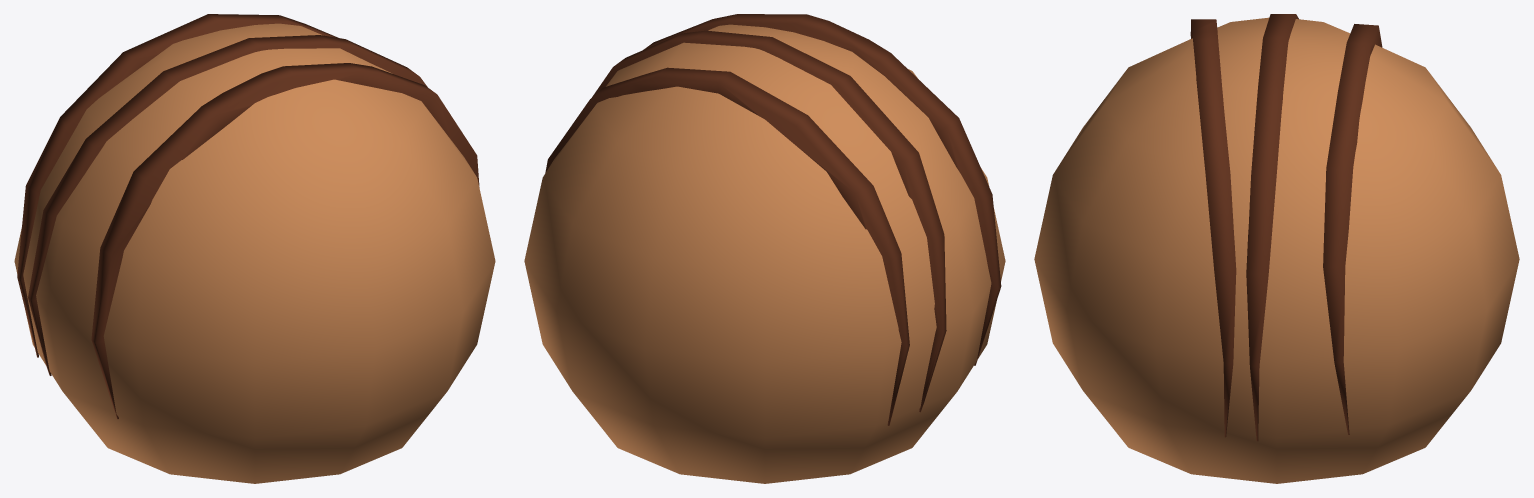
The model's file is bonbons-bush-1.glb.
3 views of the same model, side by side, from view 1: azimuth 30°, elevation 25°; view 2: azimuth 150°, elevation 25°; view 3: azimuth 270°, elevation 25° (orthographic).
Visible parts, largest first — view 1: bonbon, drizzles; view 2: bonbon, drizzles; view 3: bonbon, drizzles.
Part boxes in pixels (left/top/right/bottom): bonbon: left=14, top=23, right=495, bottom=483; drizzles: left=17, top=14, right=479, bottom=418; bonbon: left=524, top=24, right=1005, bottom=483; drizzles: left=545, top=14, right=1001, bottom=425; bonbon: left=1034, top=17, right=1519, bottom=483; drizzles: left=1190, top=14, right=1382, bottom=441.
Size of what is drawn, in the model's own units: 1 by 0.9321 by 1.
